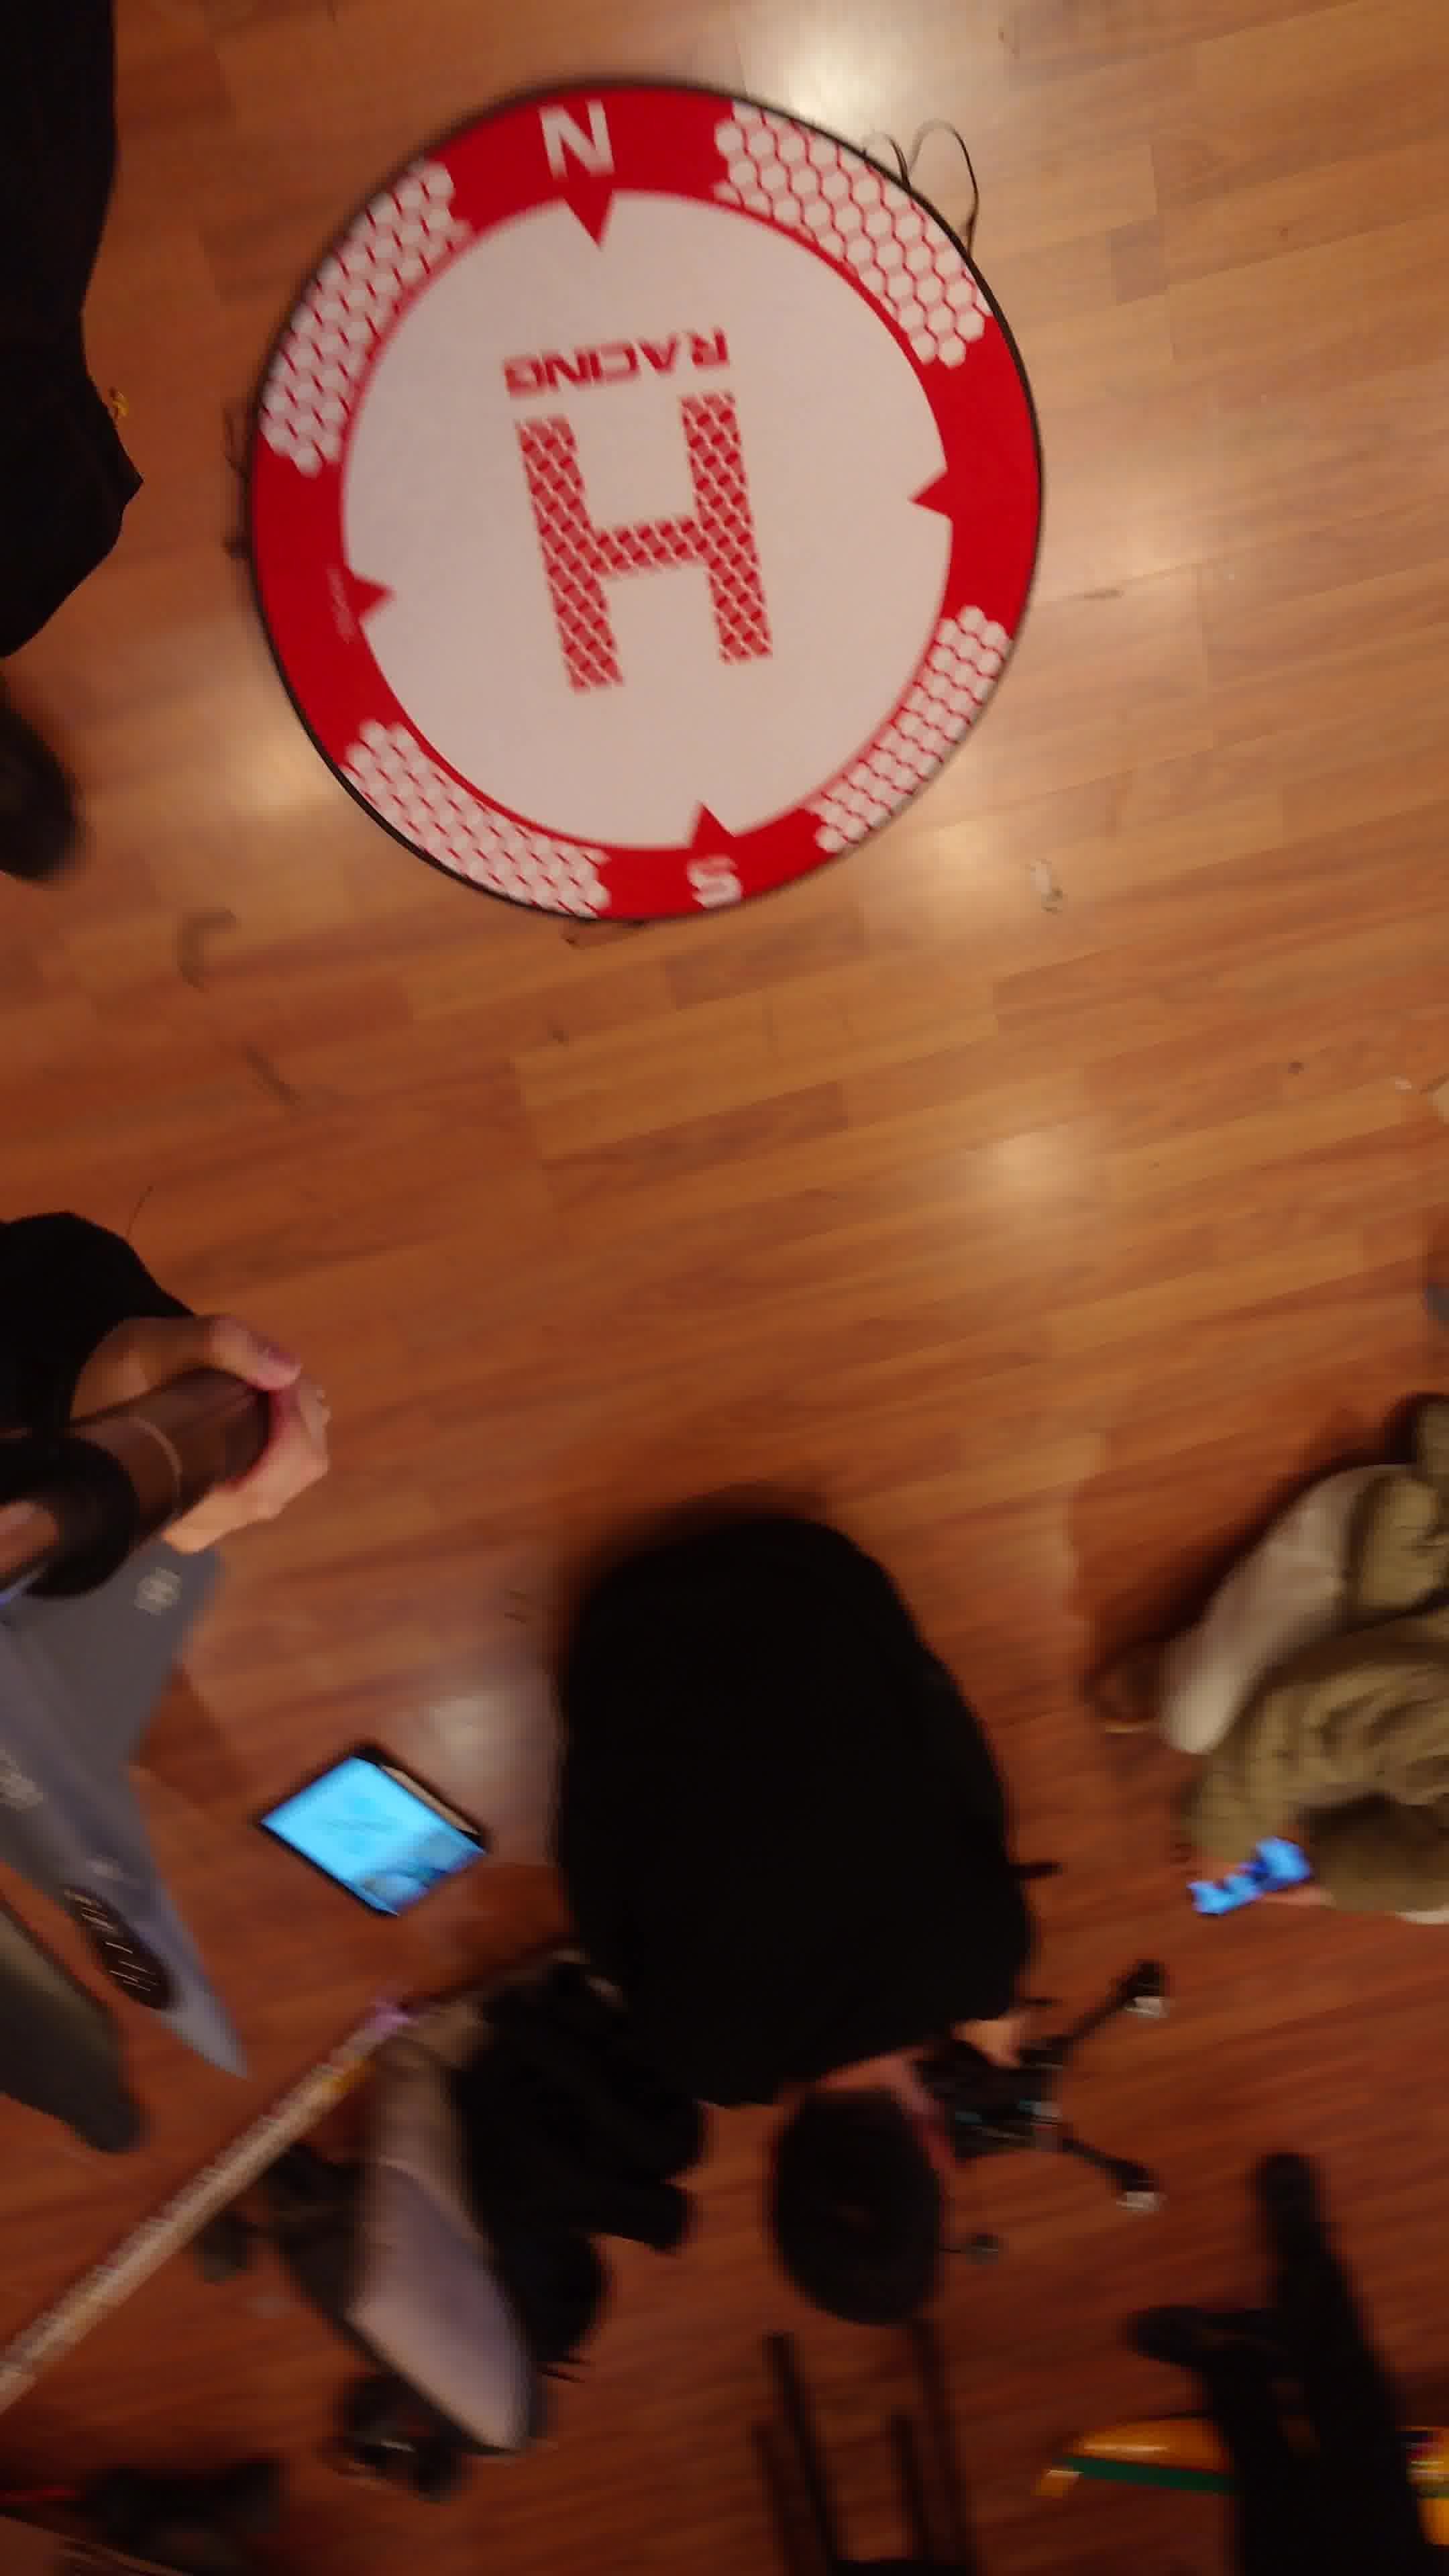H: (518, 389, 775, 697)
